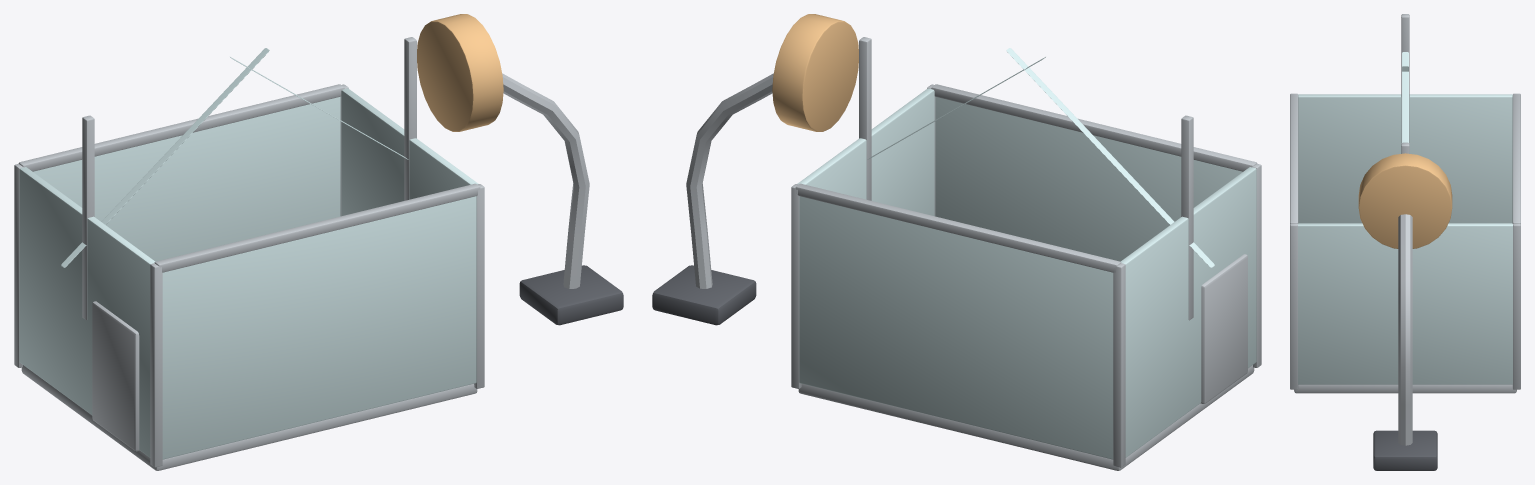
File: greenhouse_apparatus.glb
3 renders of one model, left to right at view 1: azimuth 30°, elevation 25°; view 2: azimuth 150°, elevation 25°; view 3: azimuth 270°, elevation 25°, orthographic. The views are drawn at different scales.
Visible parts, largest first — view 1: Glass_Wall_Y_F, Glass_Wall_Y_B, Glass_Wall_X_L, Glass_Wall_X_R, Sun_Shade, Door_Frame, Glass_Floor, Frame_Top_-0.95, Sun_Stem, Frame_Top_0.95, Sun_Base, Frame_V_-1.3_-0.95 (+5 smaller); view 2: Glass_Wall_Y_B, Glass_Wall_Y_F, Glass_Wall_X_L, Glass_Wall_X_R, Sun_Shade, Door_Frame, Glass_Floor, Frame_Top_0.95, Sun_Stem, Frame_Top_-0.95, Sun_Base, Frame_V_-1.3_0.95 (+5 smaller); view 3: Glass_Wall_X_R, Glass_Wall_X_L, Sun_Shade, Sun_Stem, Sun_Base, Glass_Floor, Frame_V_1.3_0.95, Frame_V_1.3_-0.95, Frame_Top_0.95, Frame_Top_-0.95, Glass_Roof_R, Frame_Ridge_-1.3.
Boxes of the visible parts, bbox=[...] form: Glass_Wall_Y_F: bbox=[162, 196, 476, 459]; Glass_Wall_Y_B: bbox=[33, 96, 340, 261]; Glass_Wall_X_L: bbox=[19, 167, 155, 457]; Glass_Wall_X_R: bbox=[341, 88, 478, 216]; Sun_Shade: bbox=[417, 14, 503, 131]; Door_Frame: bbox=[92, 301, 139, 451]; Glass_Floor: bbox=[21, 365, 477, 470]; Frame_Top_-0.95: bbox=[154, 183, 480, 272]; Sun_Stem: bbox=[502, 73, 589, 288]; Frame_Top_0.95: bbox=[18, 84, 344, 171]; Sun_Base: bbox=[519, 265, 623, 325]; Frame_V_-1.3_-0.95: bbox=[150, 263, 162, 467]; Glass_Wall_Y_B: bbox=[799, 196, 1113, 459]; Glass_Wall_Y_F: bbox=[935, 96, 1242, 261]; Glass_Wall_X_L: bbox=[1120, 167, 1256, 457]; Glass_Wall_X_R: bbox=[797, 88, 934, 216]; Sun_Shade: bbox=[772, 14, 858, 131]; Door_Frame: bbox=[1200, 254, 1247, 403]; Glass_Floor: bbox=[798, 365, 1254, 470]; Frame_Top_0.95: bbox=[795, 183, 1121, 272]; Sun_Stem: bbox=[686, 73, 773, 288]; Frame_Top_-0.95: bbox=[931, 84, 1257, 171]; Sun_Base: bbox=[652, 265, 756, 325]; Frame_V_-1.3_0.95: bbox=[1113, 263, 1125, 467]; Glass_Wall_X_R: bbox=[1298, 223, 1512, 384]; Glass_Wall_X_L: bbox=[1298, 94, 1512, 223]; Sun_Shade: bbox=[1358, 153, 1452, 248]; Sun_Stem: bbox=[1398, 214, 1412, 445]; Sun_Base: bbox=[1373, 430, 1437, 470]; Glass_Floor: bbox=[1294, 384, 1516, 393]; Frame_V_1.3_0.95: bbox=[1512, 223, 1520, 389]; Frame_V_1.3_-0.95: bbox=[1290, 223, 1298, 389]; Frame_Top_0.95: bbox=[1512, 94, 1520, 223]; Frame_Top_-0.95: bbox=[1290, 94, 1298, 223]; Glass_Roof_R: bbox=[1402, 52, 1408, 142]; Frame_Ridge_-1.3: bbox=[1401, 14, 1409, 142].
Size of the model in its own units: 4.38 by 2.55 by 1.97.
